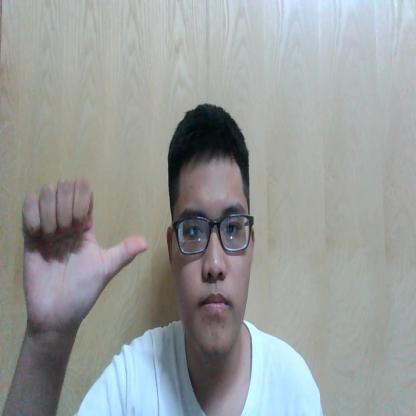left: (21, 174, 147, 322)
